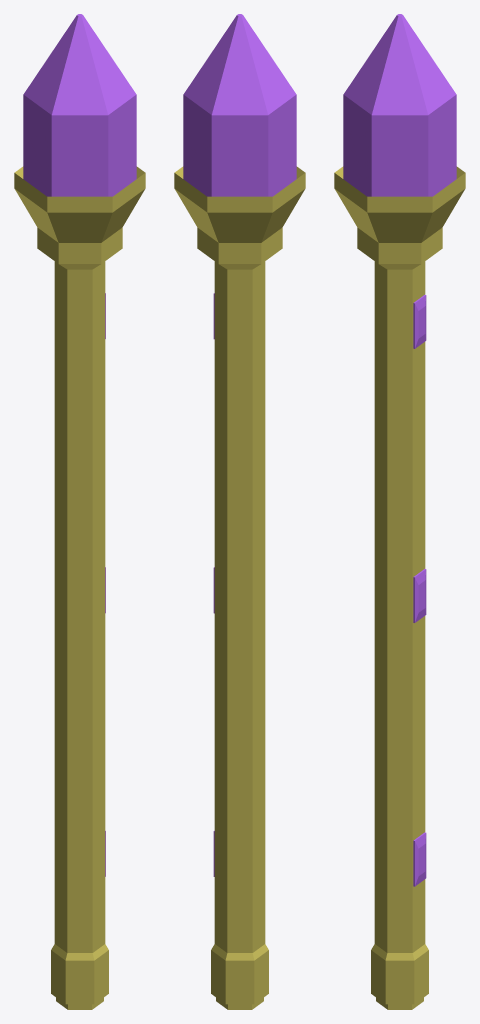
File: Sceptre.fbx
3 views of the same model, side by side, from view 1: azimuth 30°, elevation 25°; view 2: azimuth 150°, elevation 25°; view 3: azimuth 330°, elevation 25° (orthographic).
Visible parts, largest first — view 1: Staff, Gem; view 2: Staff, Gem; view 3: Staff, Gem, Gem.003, Gem.002, Gem.001.
Boxes of the visible parts, box(x1,y1,x2,y2) form: Staff: box(14, 166, 145, 1009); Gem: box(23, 14, 136, 196); Staff: box(174, 166, 305, 1009); Gem: box(183, 14, 296, 196); Staff: box(334, 166, 465, 1009); Gem: box(343, 14, 456, 196); Gem.003: box(413, 295, 426, 348); Gem.002: box(413, 832, 426, 886); Gem.001: box(413, 569, 426, 622).
Bounding box in the file's own units: 104 × 998 × 120.
